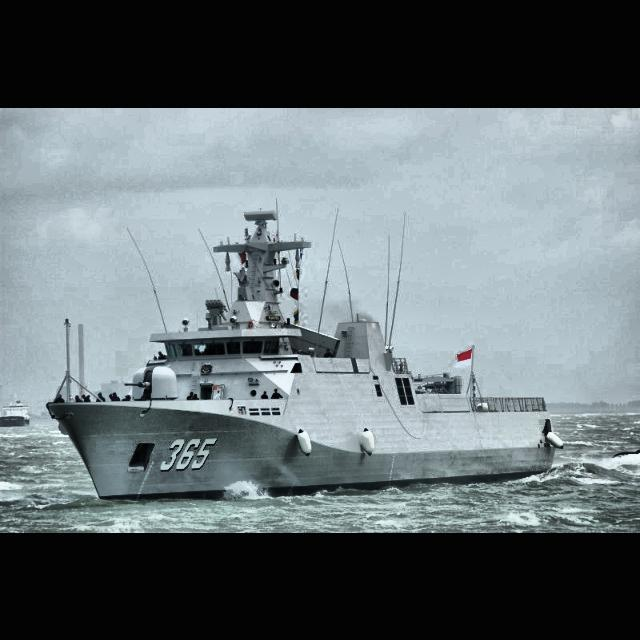combat_vessel: (46, 204, 564, 504)
